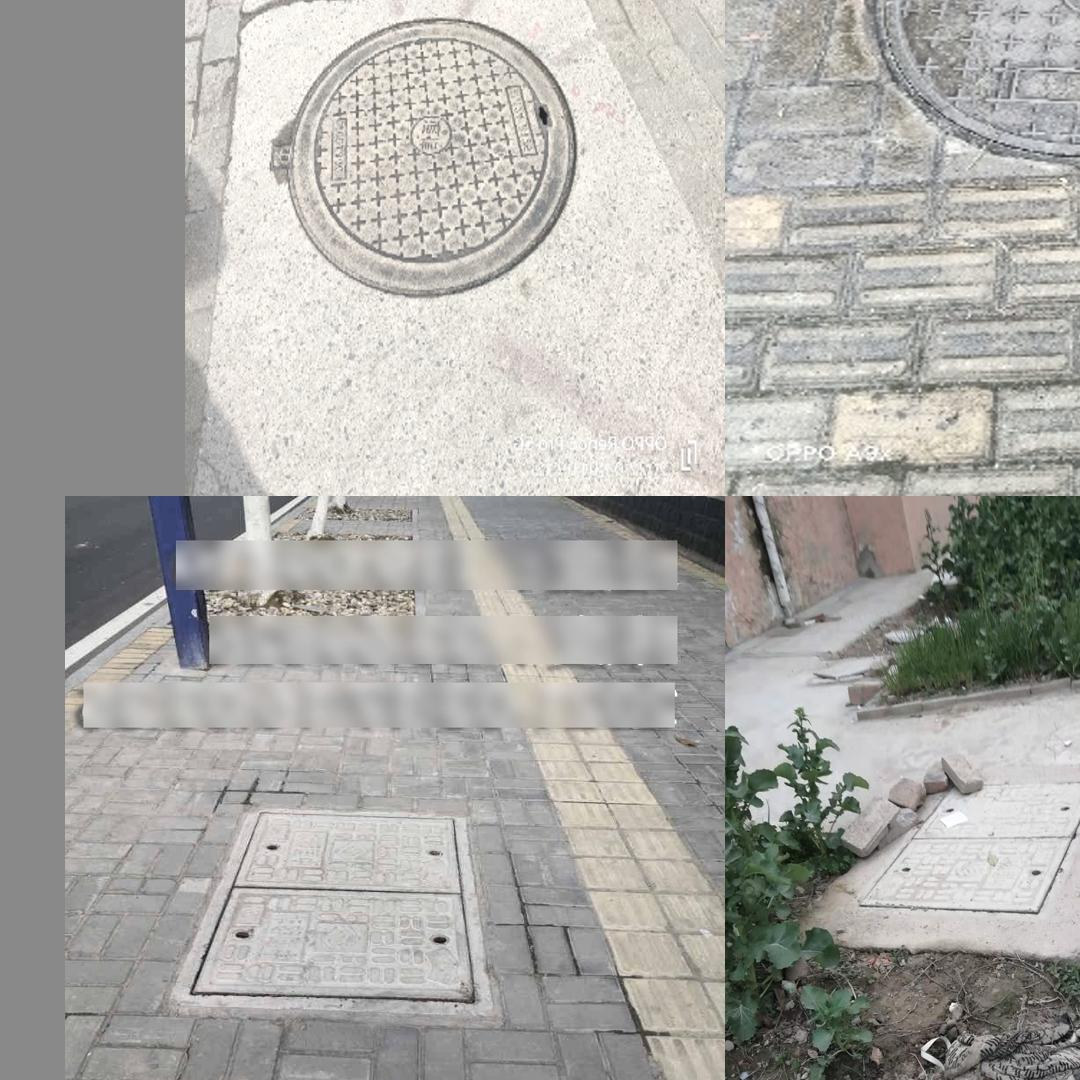good: (285, 12, 569, 301), (165, 806, 493, 1011), (876, 0, 1080, 159), (856, 779, 1080, 915), (862, 1060, 1080, 1080)
